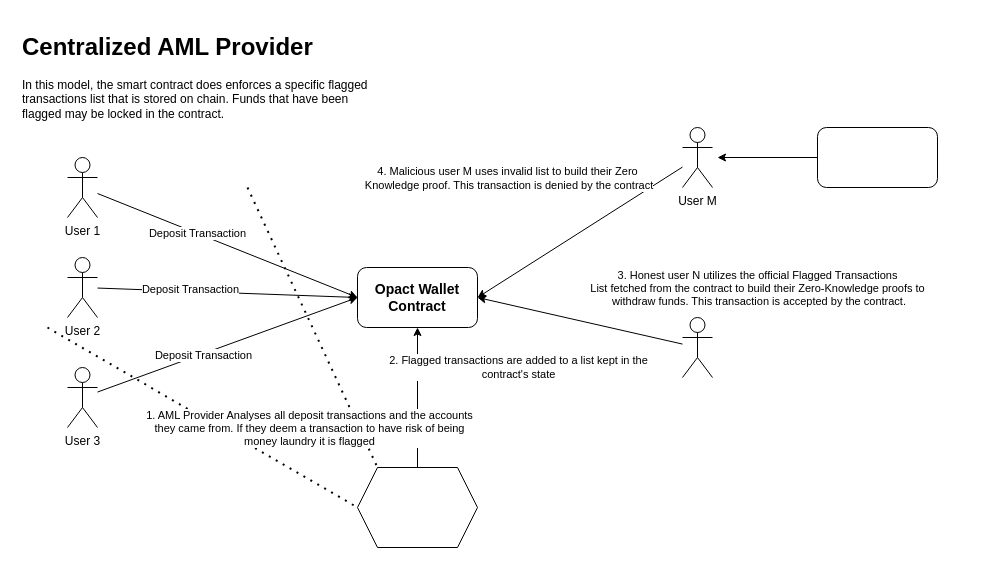
The diagram is 994 pixels wide and 584 high, and some of its shapes have lost their labels. Here are the shapes that lost their labels. From the top down, the centre of each, then its label:
the point at 877,157: Fake Flagged Transactions List
the point at 697,347: User N
the point at 417,507: AML Provider
